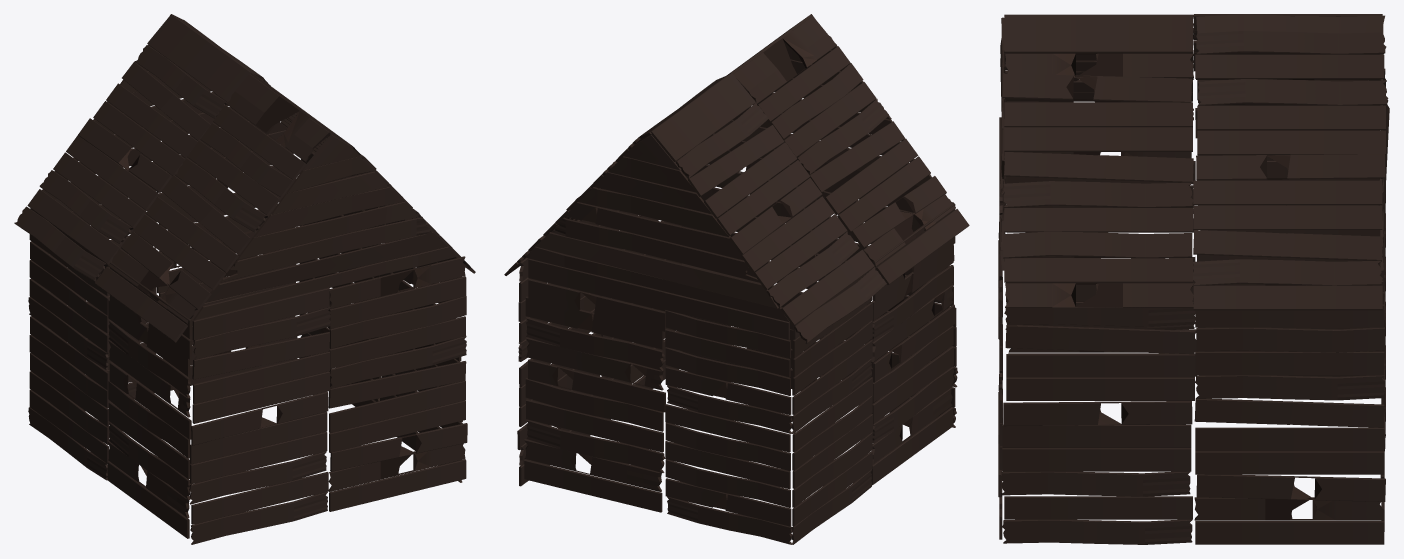
File: Casa1.fbx
3 renders of one model, left to right at view 1: azimuth 30°, elevation 25°; view 2: azimuth 150°, elevation 25°; view 3: azimuth 270°, elevation 25°, orthographic. The views are drawn at different scales.
Visible parts, largest first — view 1: Cube.024; view 2: Cube.024; view 3: Cube.024.
Part boxes in pixels (bbox=[...]): Cube.024: bbox=[14, 14, 475, 544]; Cube.024: bbox=[504, 14, 969, 544]; Cube.024: bbox=[998, 14, 1389, 544].
Bounding box in the file's own units: 647 × 784 × 611.
